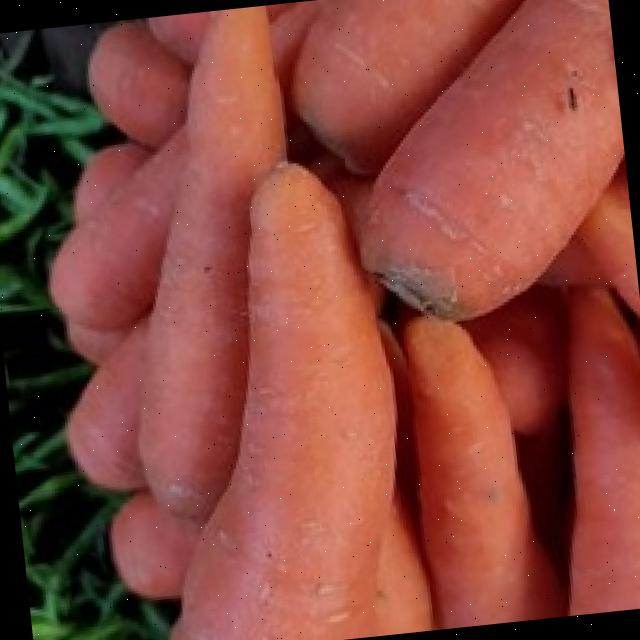carrot: (50, 0, 640, 640)
